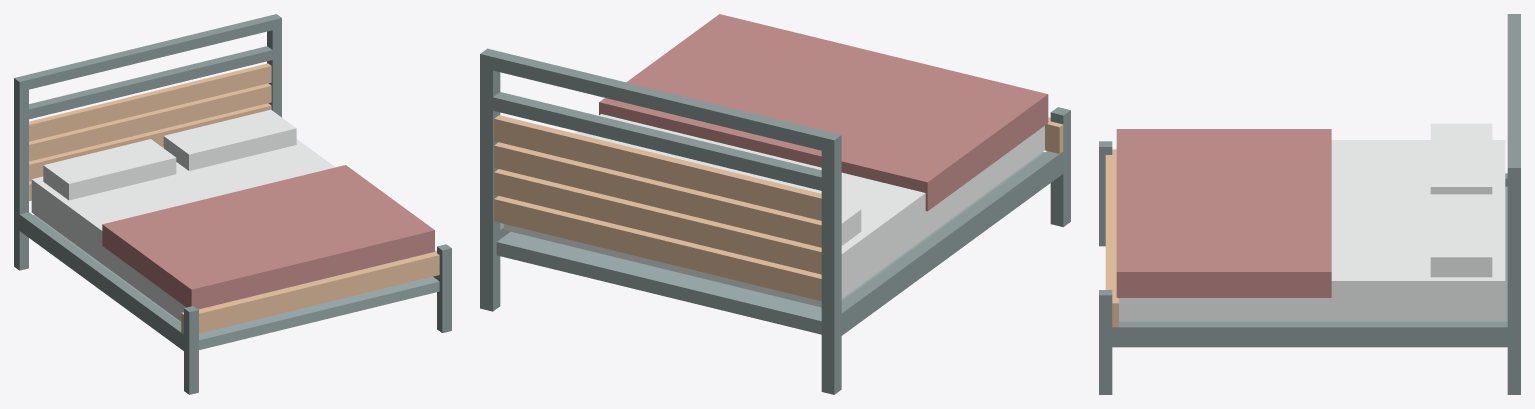
The model's file is bedQueenIndustrial.glb.
3 views of the same model, side by side, from view 1: azimuth 30°, elevation 25°; view 2: azimuth 150°, elevation 25°; view 3: azimuth 270°, elevation 25° (orthographic). The views are drawn at different scales.
Visible parts, largest first — view 1: bedQueenIndustrial; view 2: bedQueenIndustrial; view 3: bedQueenIndustrial.
Part boxes in pixels (x1=…): bedQueenIndustrial: x1=14, y1=14, x2=451, y2=394; bedQueenIndustrial: x1=480, y1=14, x2=1070, y2=394; bedQueenIndustrial: x1=1099, y1=14, x2=1520, y2=394.
Bounding box in the file's own units: 0.83 × 0.57 × 0.96.
